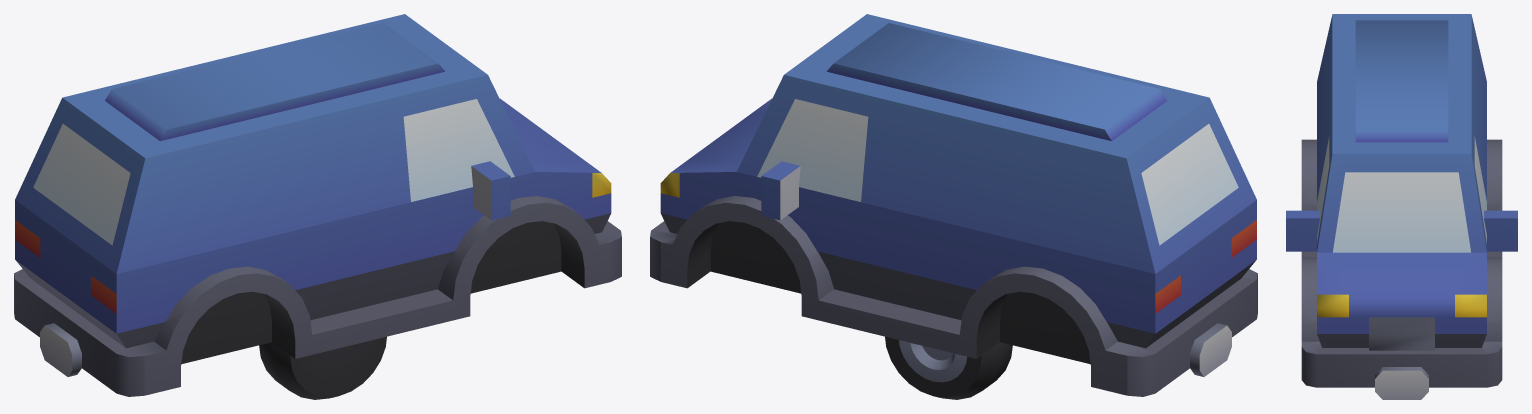
File: van.glb
3 views of the same model, side by side, from view 1: azimuth 30°, elevation 25°; view 2: azimuth 150°, elevation 25°; view 3: azimuth 270°, elevation 25° (orthographic). The views are drawn at different scales.
Parts seen in each view (by area): view 1: body, wheel; view 2: body, wheel; view 3: body.
Part boxes in pixels (x1=…): body: x1=14, y1=14, x2=621, y2=396; wheel: x1=259, y1=336, x2=386, y2=399; body: x1=650, y1=14, x2=1257, y2=396; wheel: x1=885, y1=336, x2=1012, y2=399; body: x1=1286, y1=14, x2=1517, y2=399.
Bounding box in the file's own units: 4.6 × 2.76 × 2.11.
